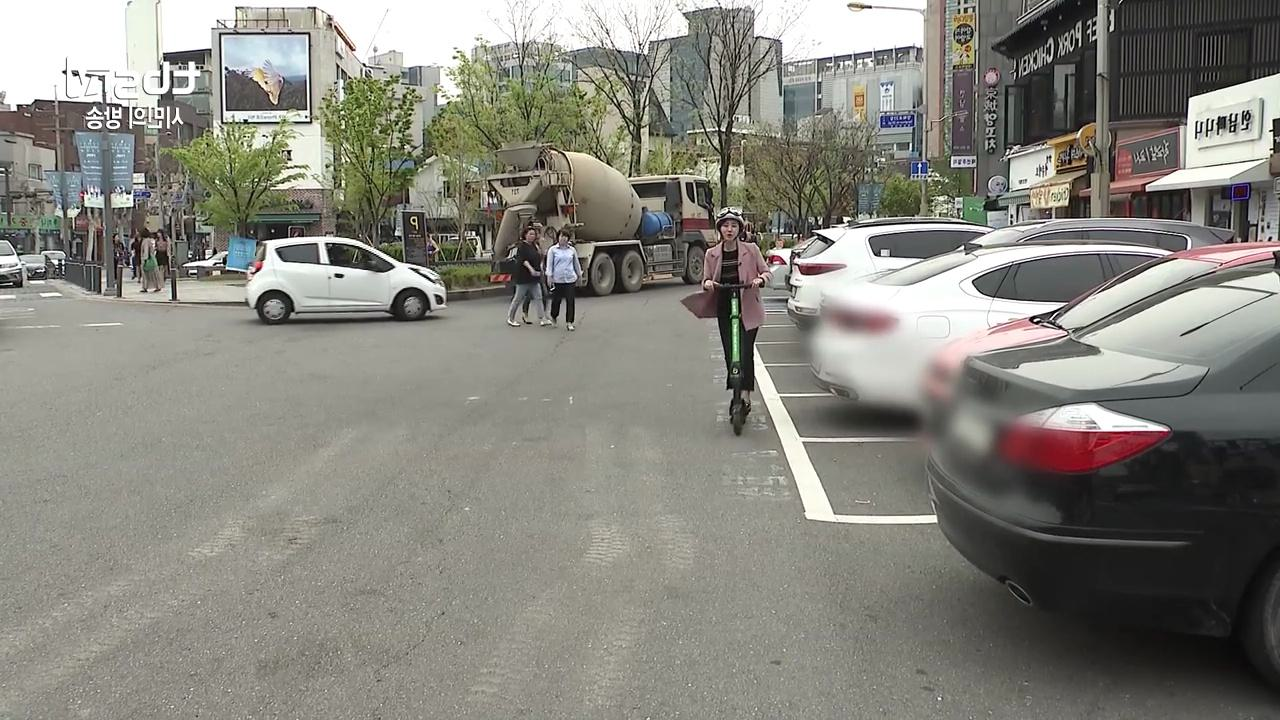helmet: (678, 204, 774, 434)
